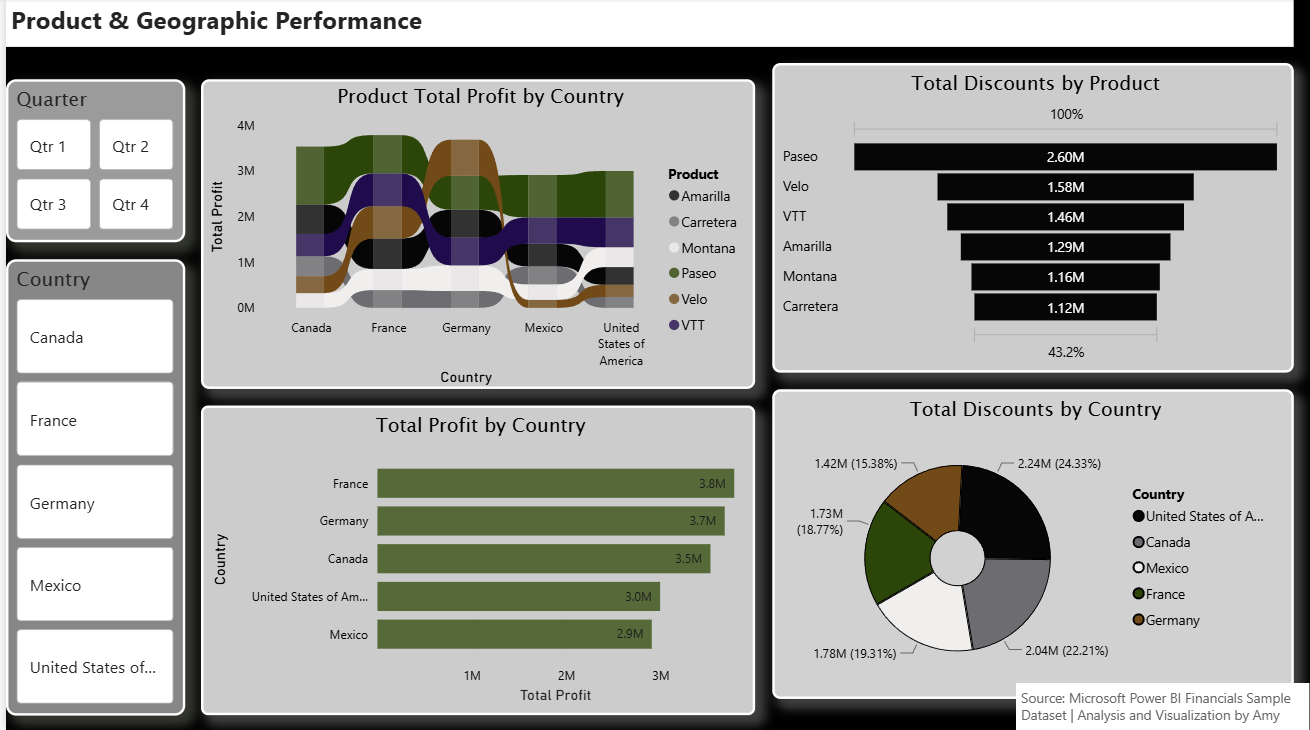

The page's visual inventory and layout, read from the dashboard file:
{"tool":"powerbi","page":{"name":"Product and Geographic Performance","canvas":[1280,720],"ordinal":1},"visuals":[{"type":"clusteredBarChart","fields":{"Category":["financials.Country"],"Y":["financials.Total Profit"]},"box":[192,400,544,304],"z":0},{"type":"donutChart","fields":{"Category":["financials.Country"],"Y":["financials.Total Discounts"]},"box":[752,384,512,304],"z":1000},{"type":"ribbonChart","title":"Product Total Profit by Country","fields":{"Category":["financials.Country"],"Series":["financials.Product"],"Y":["financials.Total Profit"]},"box":[192,80,544,304],"z":2000},{"type":"funnel","fields":{"Category":["financials.Product"],"Y":["financials.Total Discounts"]},"box":[752,64,512,304],"z":3000},{"type":"advancedSlicerVisual","fields":{"Values":["financials.Date.Variation.Date Hierarchy.Quarter"]},"box":[0,80,176,160],"z":4000},{"type":"advancedSlicerVisual","fields":{"Values":["financials.Country"]},"box":[0,256,176,448],"z":5000},{"type":"textbox","box":[0,0,1264,48],"z":6000},{"type":"textbox","box":[992,672,288,48],"z":7000}]}

Visuals, with their boxes in screenshot pixels (x1, y1, x2, y2), scaled from the page's 1280x720 canvas onto the 1310x730 screenshot:
clusteredBarChart - financials.Country x financials.Total Profit: x1=196 y1=406 x2=753 y2=714
donutChart - financials.Country x financials.Total Discounts: x1=770 y1=389 x2=1294 y2=698
"Product Total Profit by Country" ribbonChart: x1=196 y1=81 x2=753 y2=389
funnel - financials.Product x financials.Total Discounts: x1=770 y1=65 x2=1294 y2=373
advancedSlicerVisual - financials.Date.Variation.Date Hierarchy.Quarter: x1=0 y1=81 x2=180 y2=243
advancedSlicerVisual - financials.Country: x1=0 y1=260 x2=180 y2=714
textbox: x1=0 y1=0 x2=1294 y2=49
textbox: x1=1015 y1=681 x2=1309 y2=729
